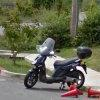Motorcycle: (19, 35, 98, 90)
